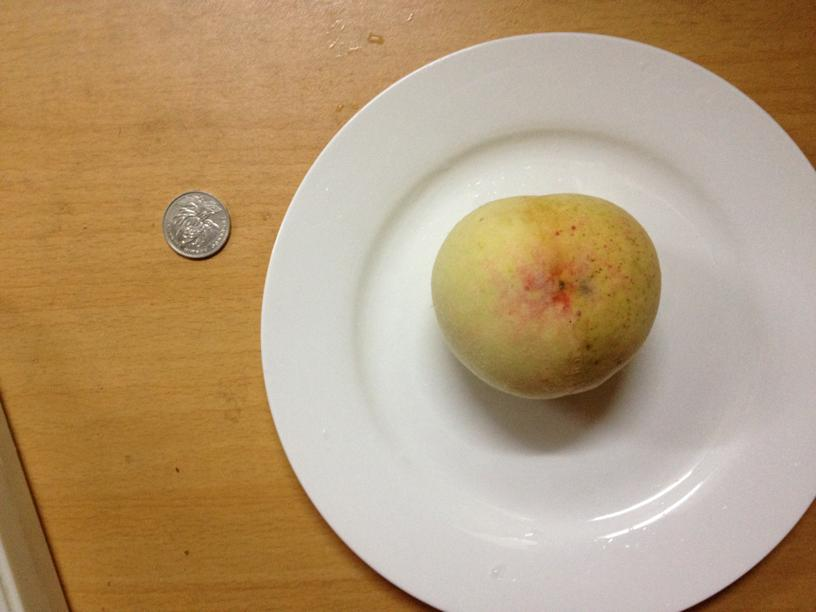coin: (159, 191, 232, 259)
peach: (434, 191, 663, 398)
